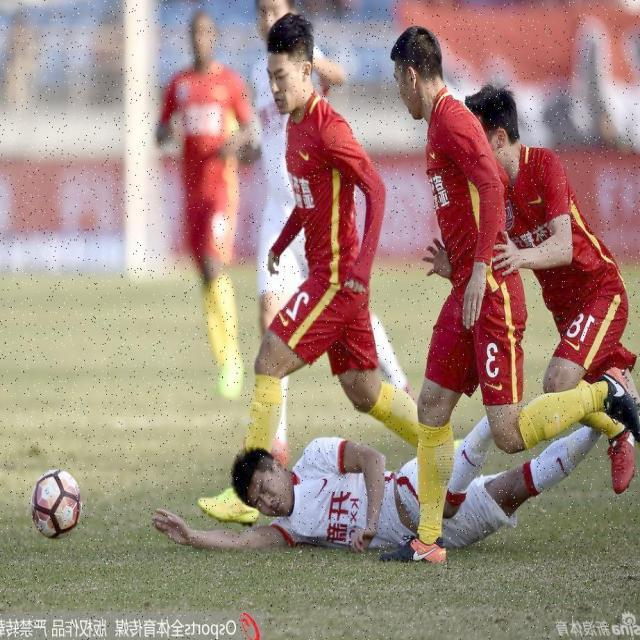fall: (160, 425, 600, 568)
